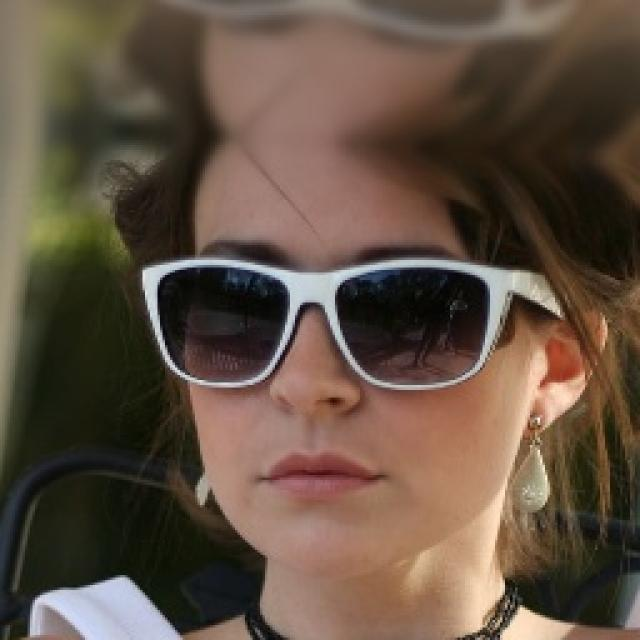glasses: (125, 233, 571, 404)
